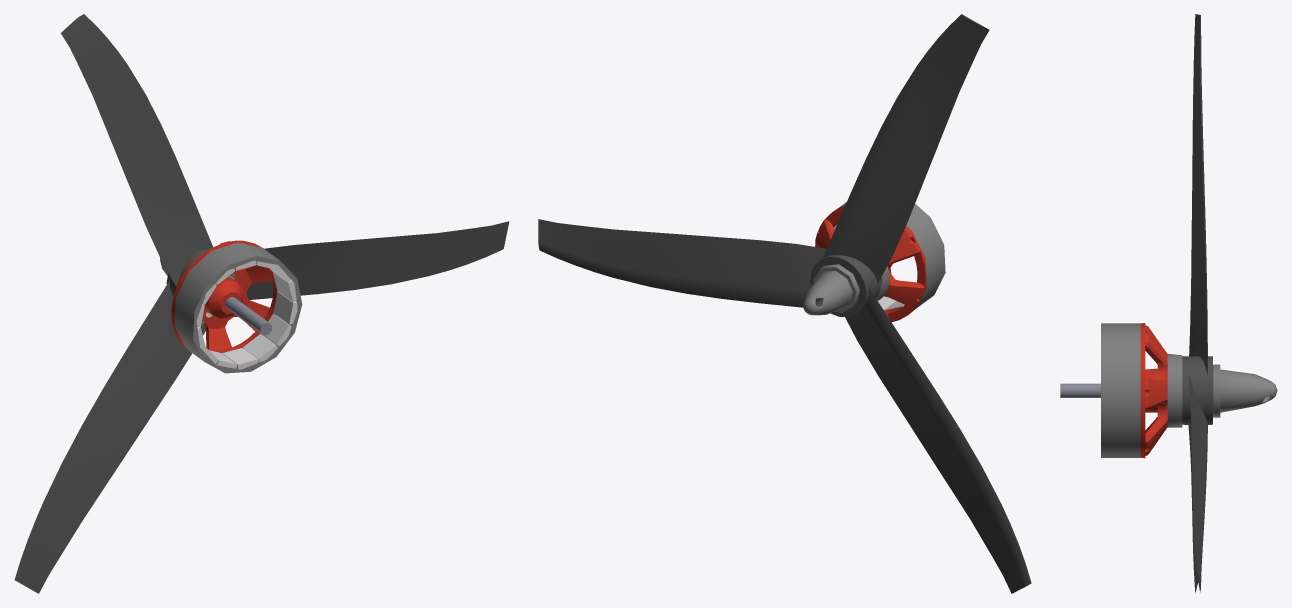
File: MiniHawkPropB.obj
3 renders of one model, left to right at view 1: azimuth 30°, elevation 25°; view 2: azimuth 150°, elevation 25°; view 3: azimuth 270°, elevation 25°, orthographic. The views are drawn at different scales.
Visible parts, largest first — view 1: Solid2, Solid1; view 2: Solid2, Solid1; view 3: Solid1, Solid2.
Boxes of the visible parts, x1=… form: Solid2: x1=14, y1=14, x2=509, y2=593; Solid1: x1=160, y1=240, x2=302, y2=373; Solid2: x1=538, y1=14, x2=1031, y2=593; Solid1: x1=803, y1=202, x2=945, y2=322; Solid1: x1=1060, y1=323, x2=1277, y2=458; Solid2: x1=1182, y1=14, x2=1212, y2=592.
Bounding box in the file's own units: 0.1229 × 0.135 × 0.044.
